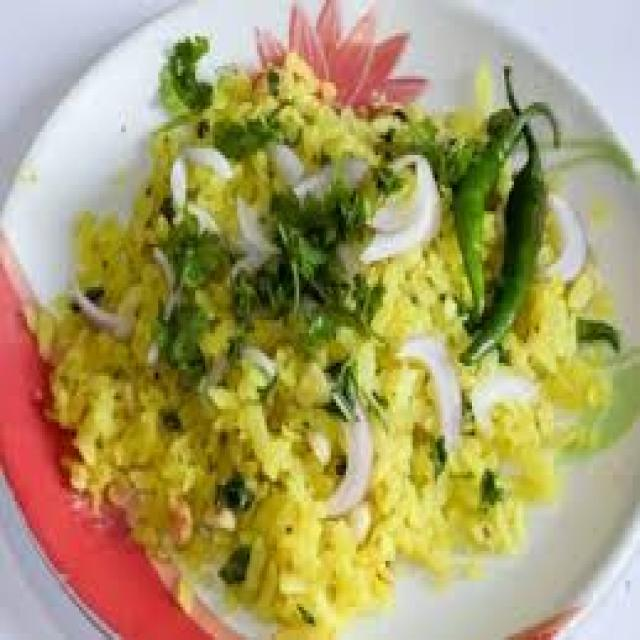POHA: (25, 0, 638, 637)
